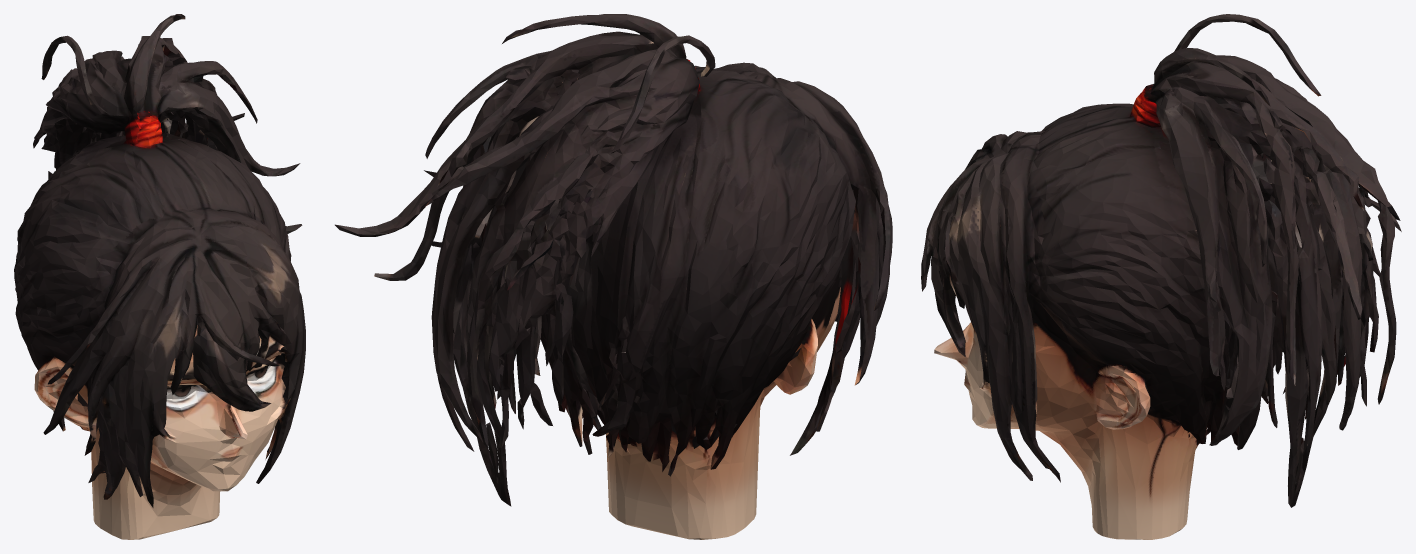
Rendered from side_h_shrinearcher_repaired_atlas.glb.
The picture shows the model from 3 angles, left to right: view 1: azimuth 30°, elevation 25°; view 2: azimuth 150°, elevation 25°; view 3: azimuth 270°, elevation 25°; orthographic projection. The views are drawn at different scales.
Visible parts, largest first — view 1: temp_mesh.ply; view 2: temp_mesh.ply; view 3: temp_mesh.ply.
Part boxes in pixels (bbox=[...]): temp_mesh.ply: bbox=[14, 14, 305, 539]; temp_mesh.ply: bbox=[335, 14, 892, 539]; temp_mesh.ply: bbox=[921, 14, 1401, 539].
Size of the model in its own units: 1.19 by 1.54 by 1.4.
1 material, 1 textured.
